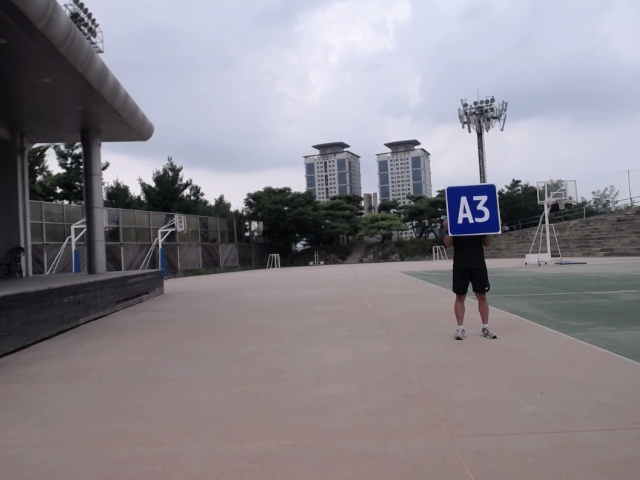delivery_a3: (445, 184, 501, 236)
